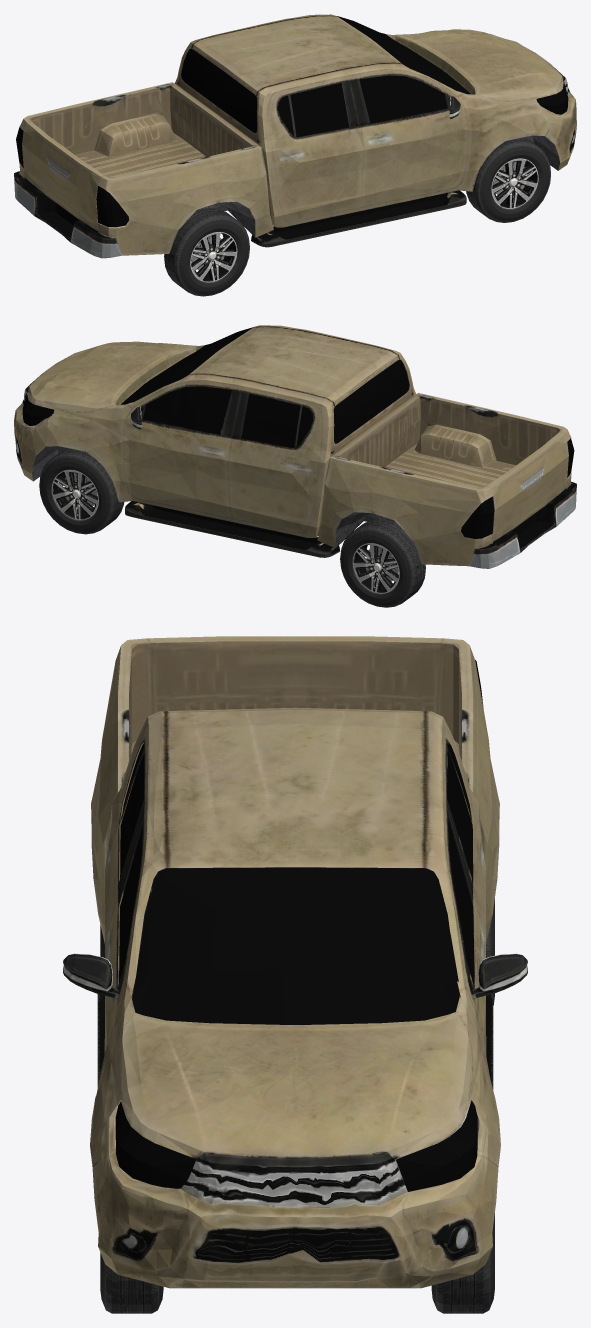
Rendered from BREAKED VEHICLE.fbx.
3 views of the same model, one above another, from view 1: azimuth 30°, elevation 25°; view 2: azimuth 150°, elevation 25°; view 3: azimuth 270°, elevation 25° (orthographic). The views are drawn at different scales.
Parts seen in each view (by area): view 1: Body, Glass, Interior; view 2: Body, Glass, Interior; view 3: Body, Glass, Interior.
Part boxes in pixels (left/top/right/bottom): Body: left=14, top=14, right=576, bottom=258; Glass: left=16, top=16, right=568, bottom=227; Interior: left=164, top=17, right=550, bottom=296; Body: left=14, top=325, right=576, bottom=568; Glass: left=22, top=327, right=574, bottom=538; Interior: left=39, top=329, right=425, bottom=607; Body: left=63, top=636, right=527, bottom=1288; Glass: left=115, top=660, right=483, bottom=1191; Interior: left=100, top=742, right=494, bottom=1313.
Bounding box in the file's own units: 5.4 × 1.89 × 2.16.
3 materials, 3 textured.
